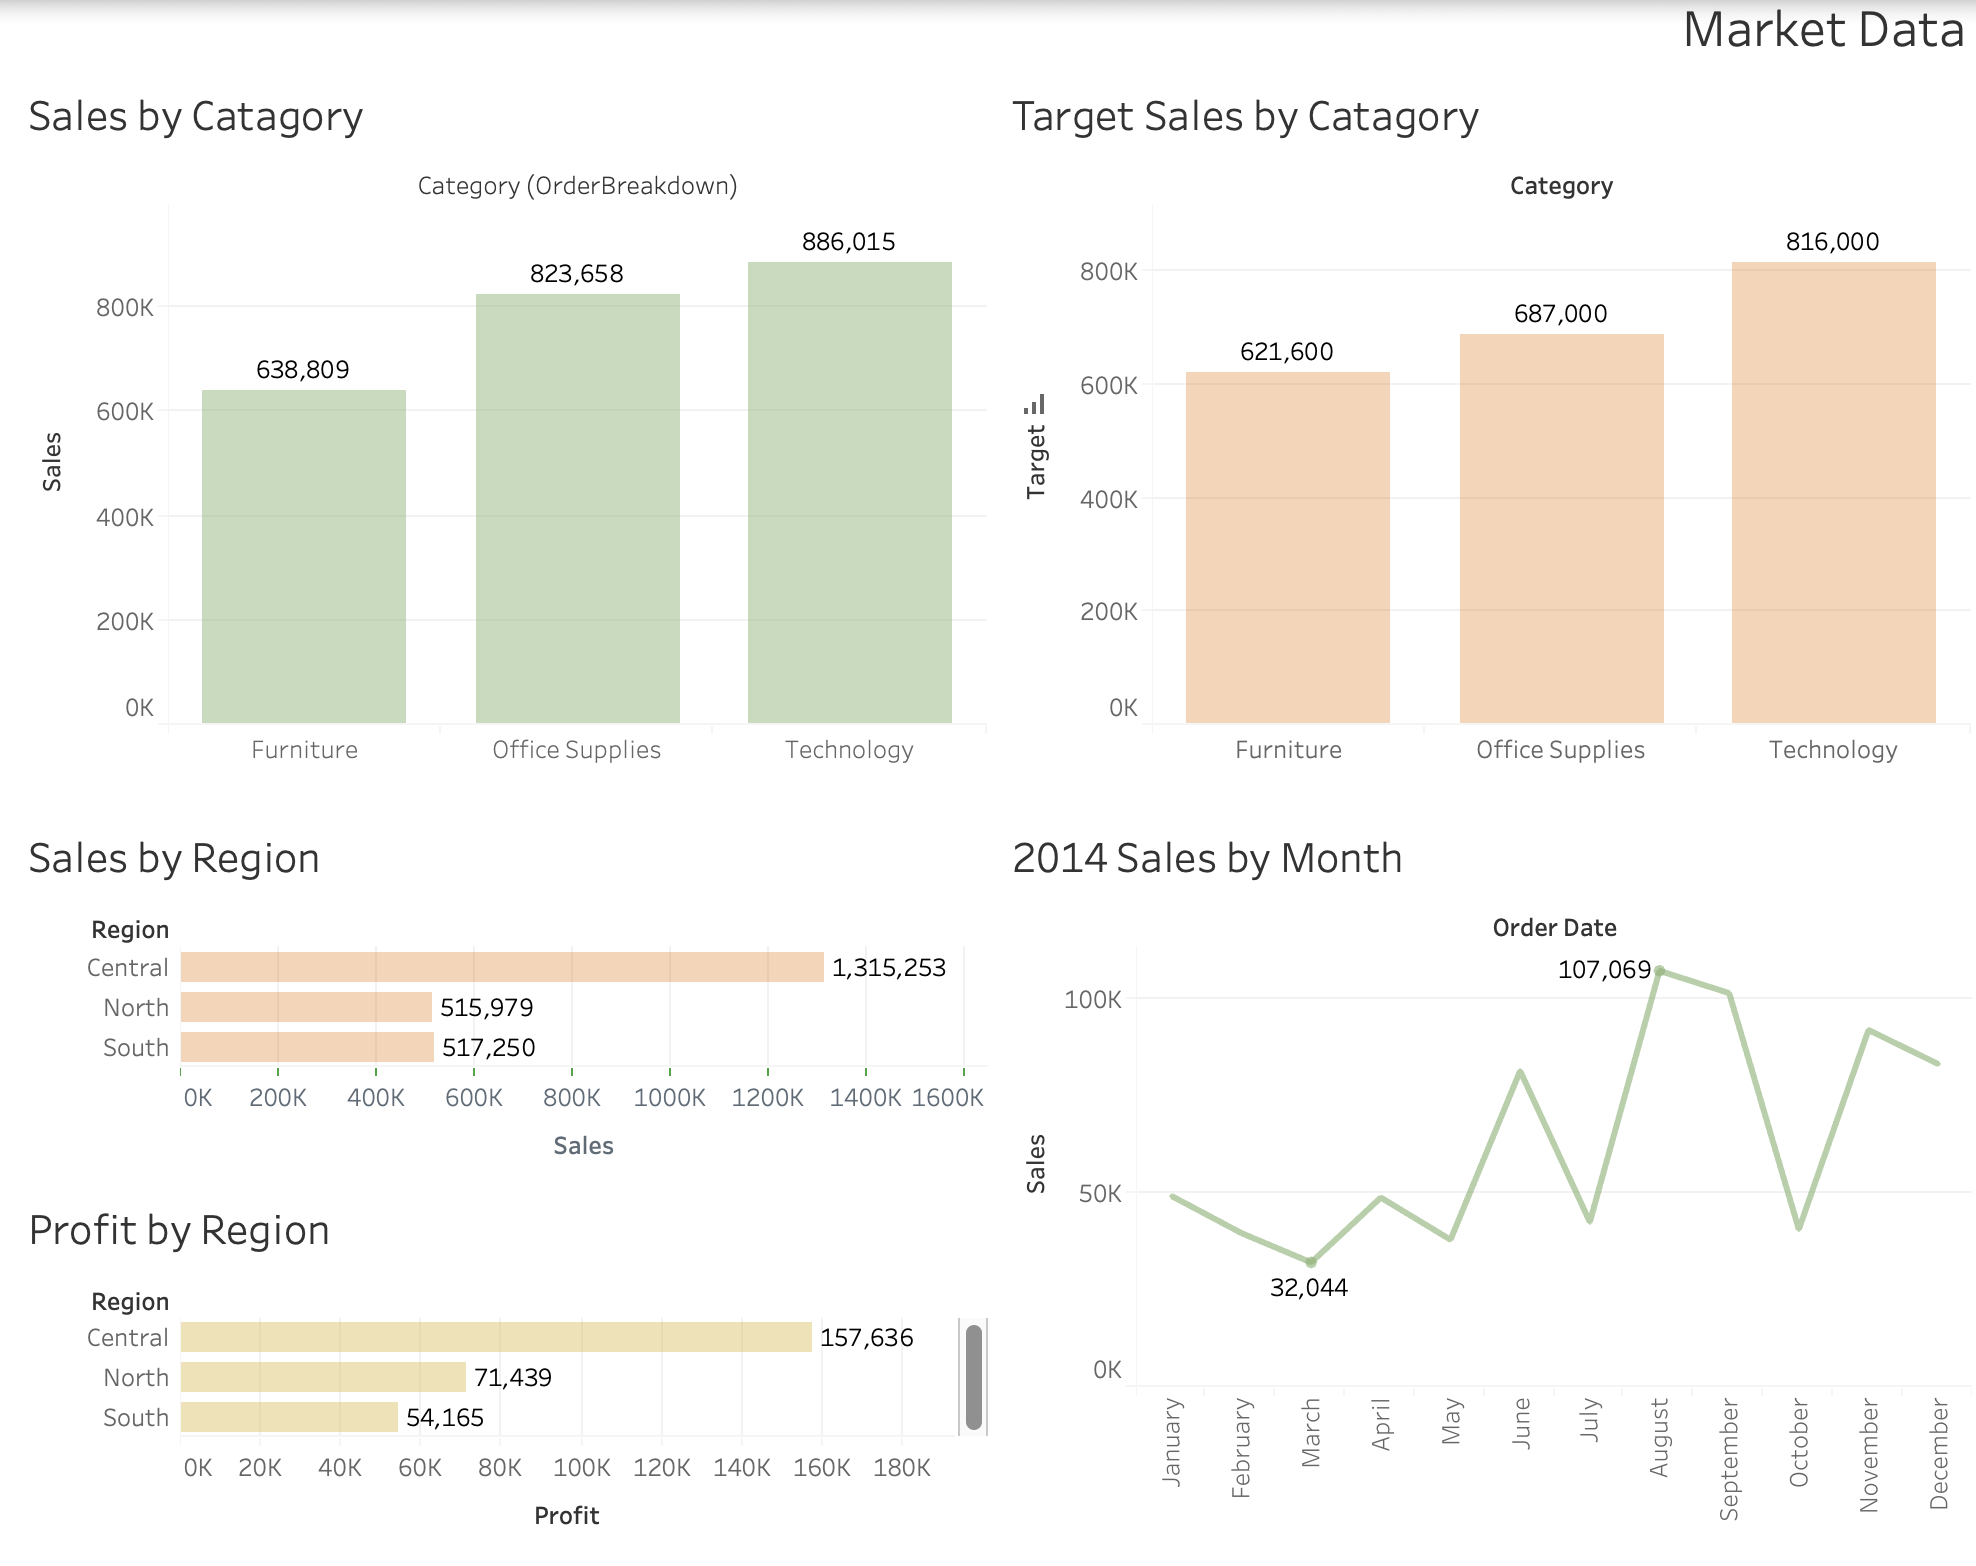

The page's visual inventory and layout, read from the dashboard file:
{"tool":"tableau","page":{"name":"Dashboard 2","canvas":[1000,800],"ordinal":1},"visuals":[{"type":"worksheet","box":[0,0,1000,800]},{"type":"worksheet","title":"Sheet 6","mark":"Automatic","rows":["Region"],"cols":["Total Cost"],"box":[8,8,984,258]},{"type":"worksheet","param":"horz","box":[8,266,984,526]},{"type":"worksheet","box":[8,266,565,526]},{"type":"worksheet","title":"Sheet 4","mark":"Automatic","box":[8,266,565,475.7]},{"type":"worksheet","param":"vert","box":[573,266,419,526]},{"type":"worksheet","title":"Sheet 5","mark":"Automatic","cols":["Region"],"box":[573,266,419,526]},{"type":"worksheet","title":"Sheet 4","mark":"Automatic","param":"[federated.0fnnwvd0xu36671bv7qcp1f0rr51].[sum:Total Profit:qk]","box":[8,741.7,565,50.3]}]}

Visuals, with their boxes in screenshot pixels (x1, y1, x2, y2), scaled from the page's 1000x800 canvas onto the 1976x1566 screenshot:
worksheet: left=0, top=0, right=1975, bottom=1565
"Sheet 6" worksheet: left=16, top=16, right=1960, bottom=521
worksheet: left=16, top=521, right=1960, bottom=1550
worksheet: left=16, top=521, right=1132, bottom=1550
"Sheet 4" worksheet: left=16, top=521, right=1132, bottom=1452
worksheet: left=1132, top=521, right=1960, bottom=1550
"Sheet 5" worksheet: left=1132, top=521, right=1960, bottom=1550
"Sheet 4" worksheet: left=16, top=1452, right=1132, bottom=1550
